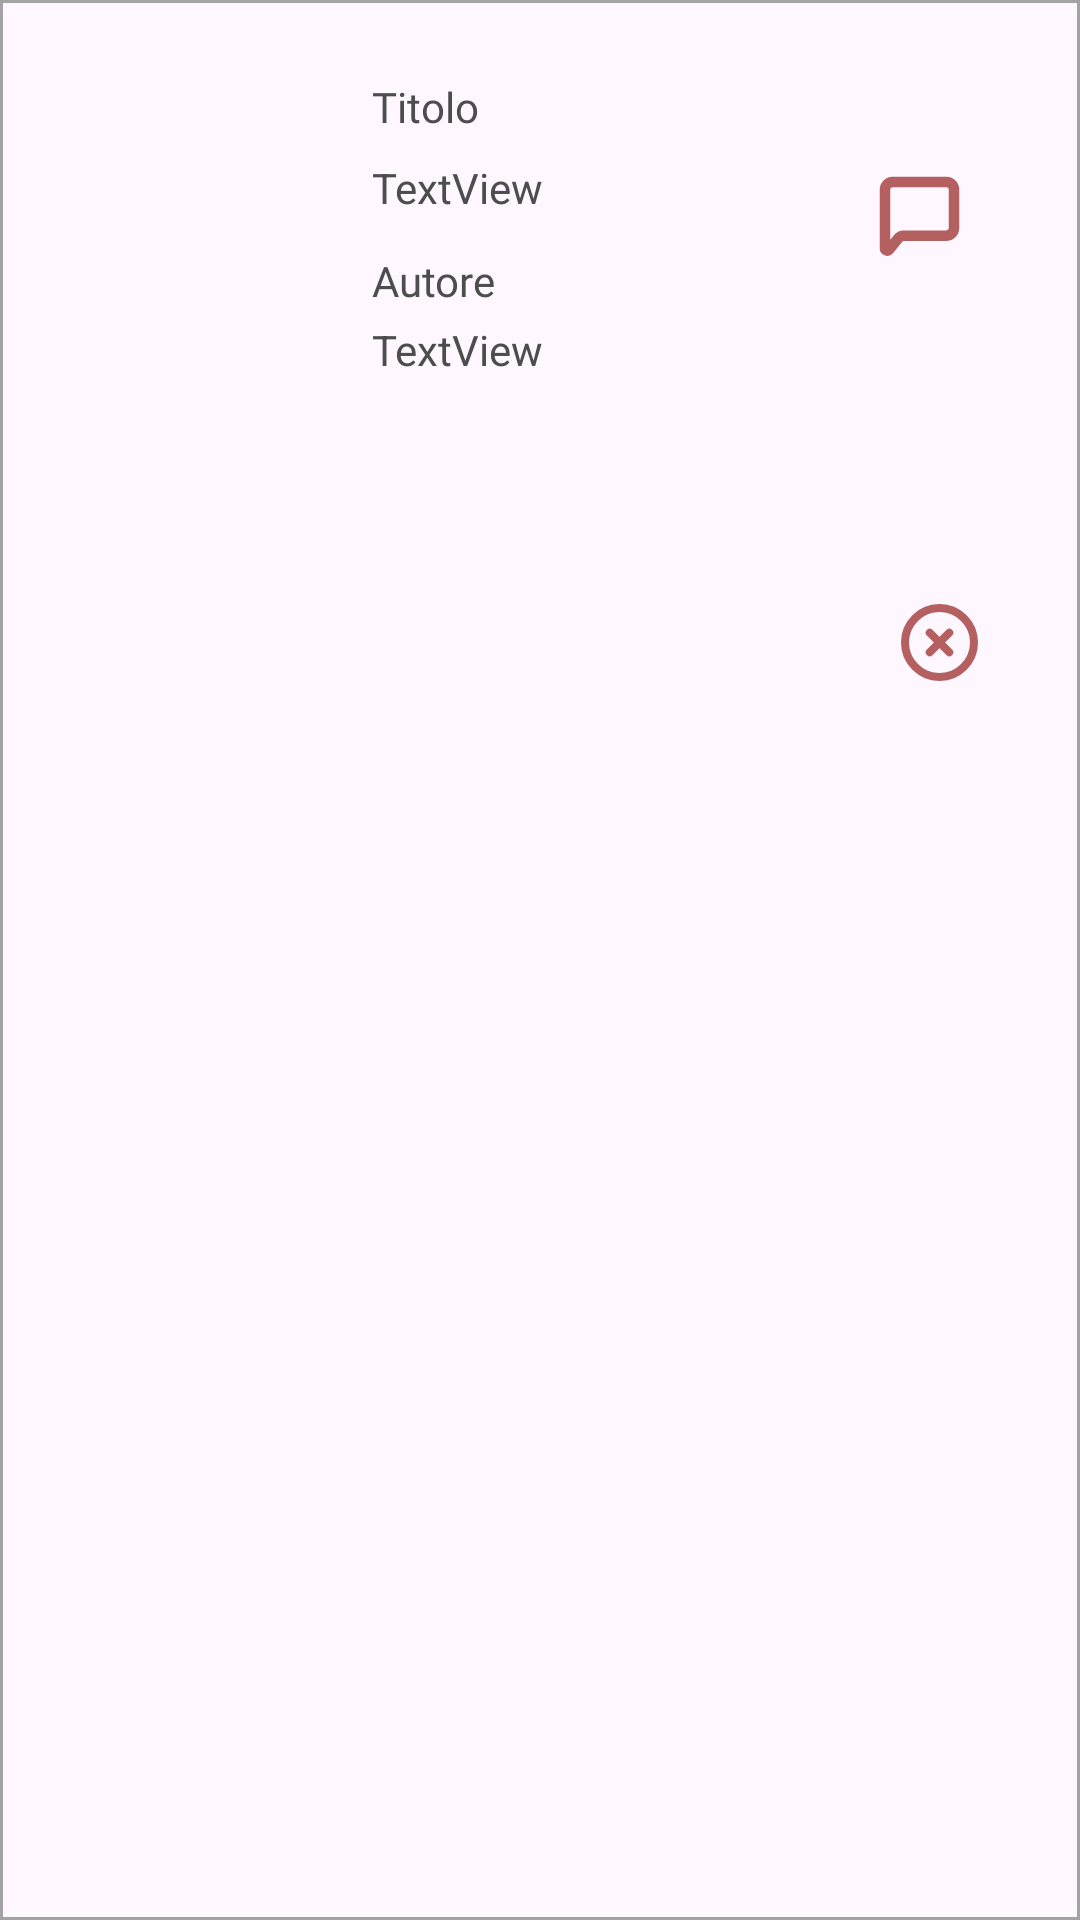

Point at icon controls on the screen. Image size 1080 x 1920, points as (x,y).
comment: (919,216)
delete: (939,642)
